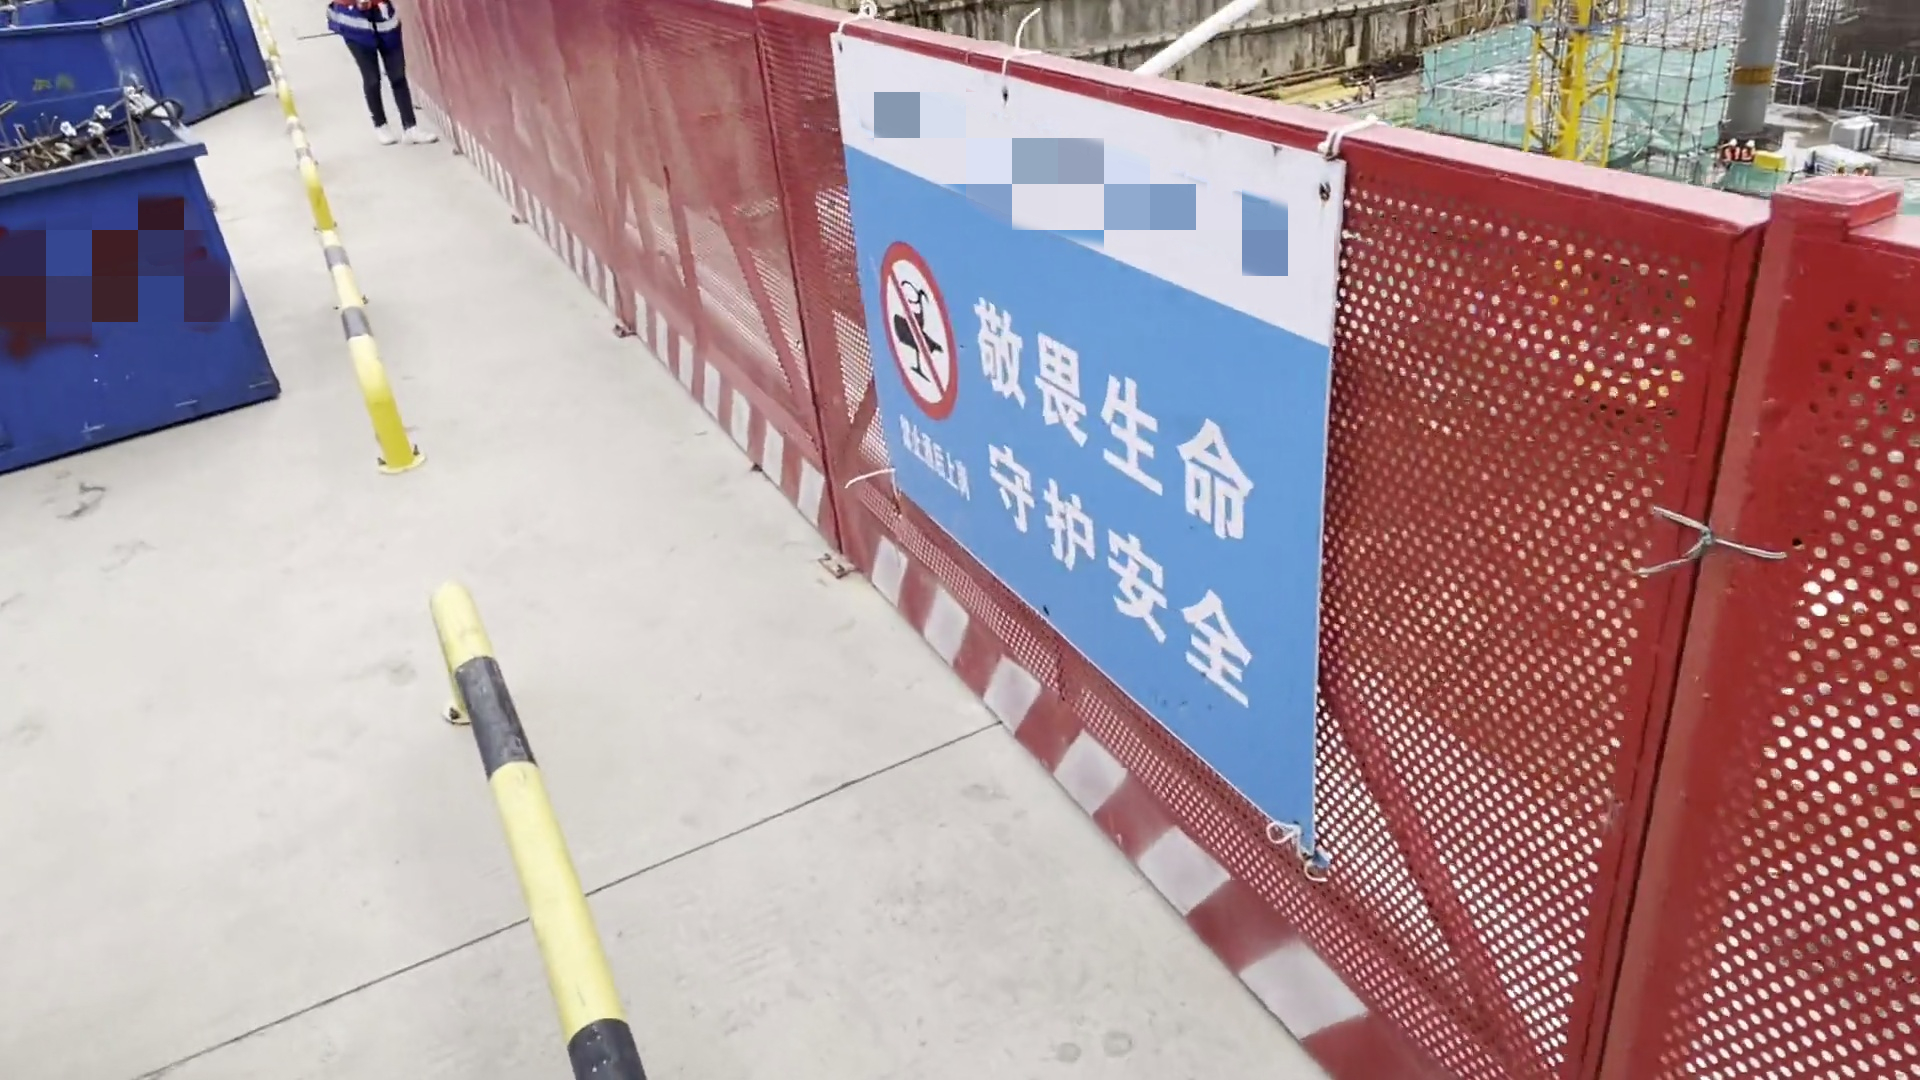fence: (454, 1, 1920, 1080)
helmet: (1730, 137, 1740, 147), (1747, 138, 1757, 147)
hopper: (1, 129, 281, 475), (1, 1, 277, 123)
person: (326, 1, 435, 152), (1740, 139, 1762, 164), (1722, 139, 1741, 162)
slogan: (827, 44, 1311, 803)
vest: (331, 1, 403, 49), (1725, 149, 1742, 163), (1742, 148, 1755, 162)
